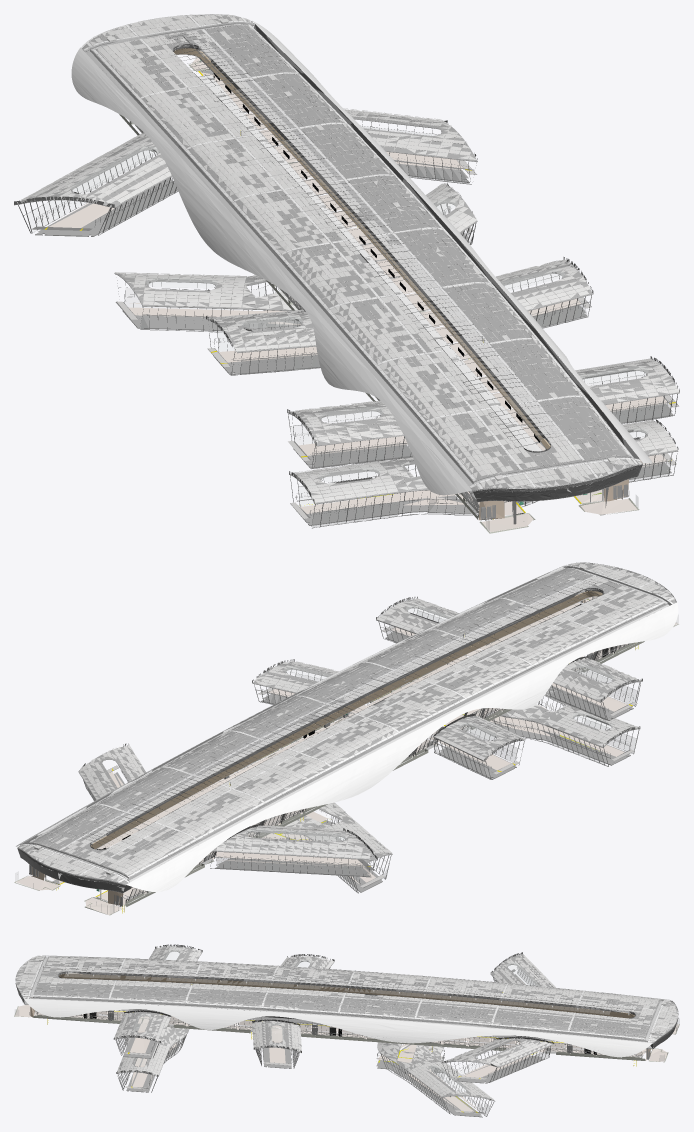
File: e16-arq-0000-web-ue-1.glb
3 views of the same model, one above another, from view 1: azimuth 30°, elevation 25°; view 2: azimuth 150°, elevation 25°; view 3: azimuth 270°, elevation 25° (orthographic). The views are drawn at different scales.
Size of the model in its own units: 65.96 by 19.55 by 155.
